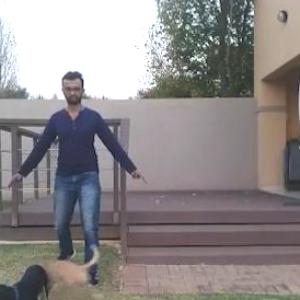land: (21, 70, 142, 280)
